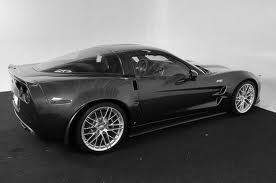car: (3, 40, 271, 157)
